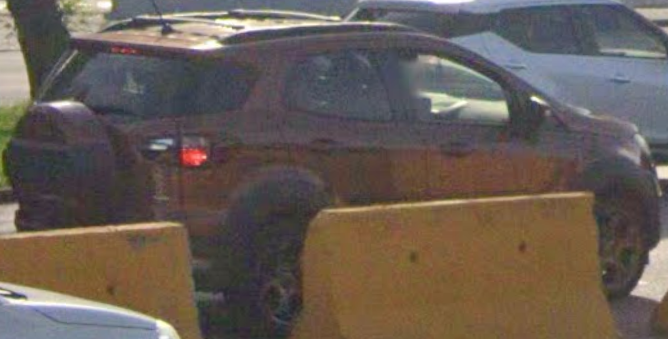car: (6, 6, 661, 218)
